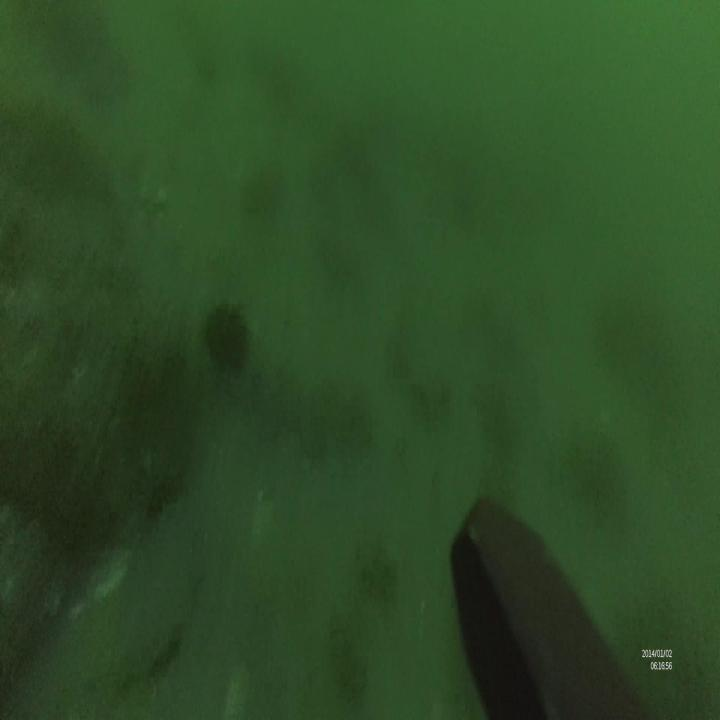echinus: (205, 300, 249, 373)
